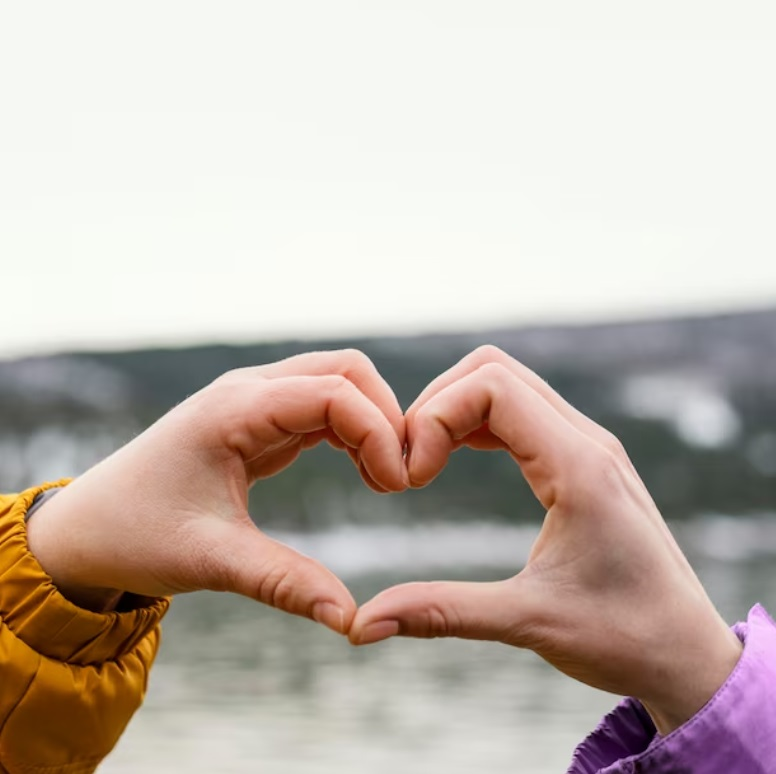heart: (30, 342, 726, 705)
